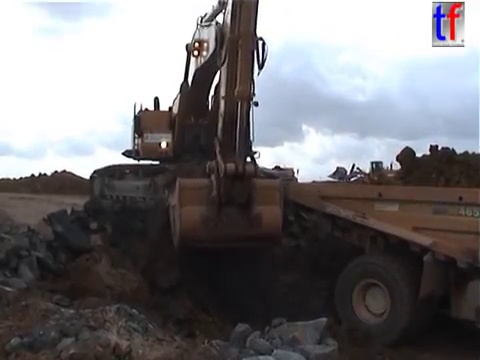excavator: (86, 1, 301, 252)
truck: (280, 178, 480, 349)
wheel loader: (325, 158, 406, 194)
